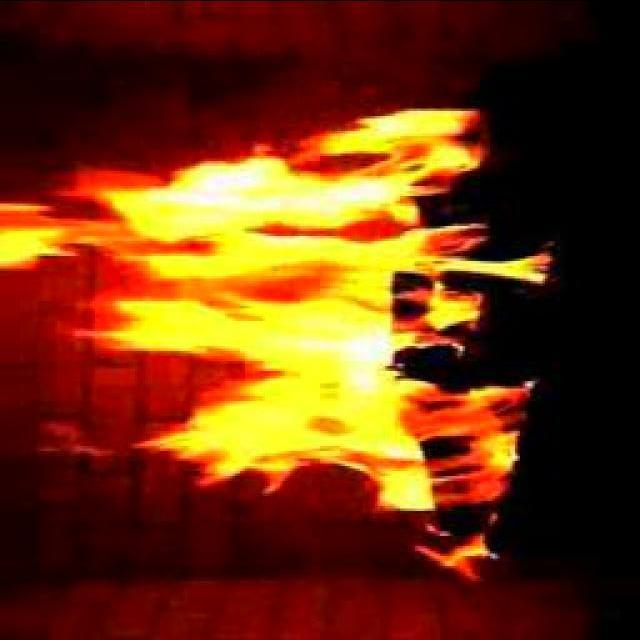Fire: (41, 159, 484, 504)
